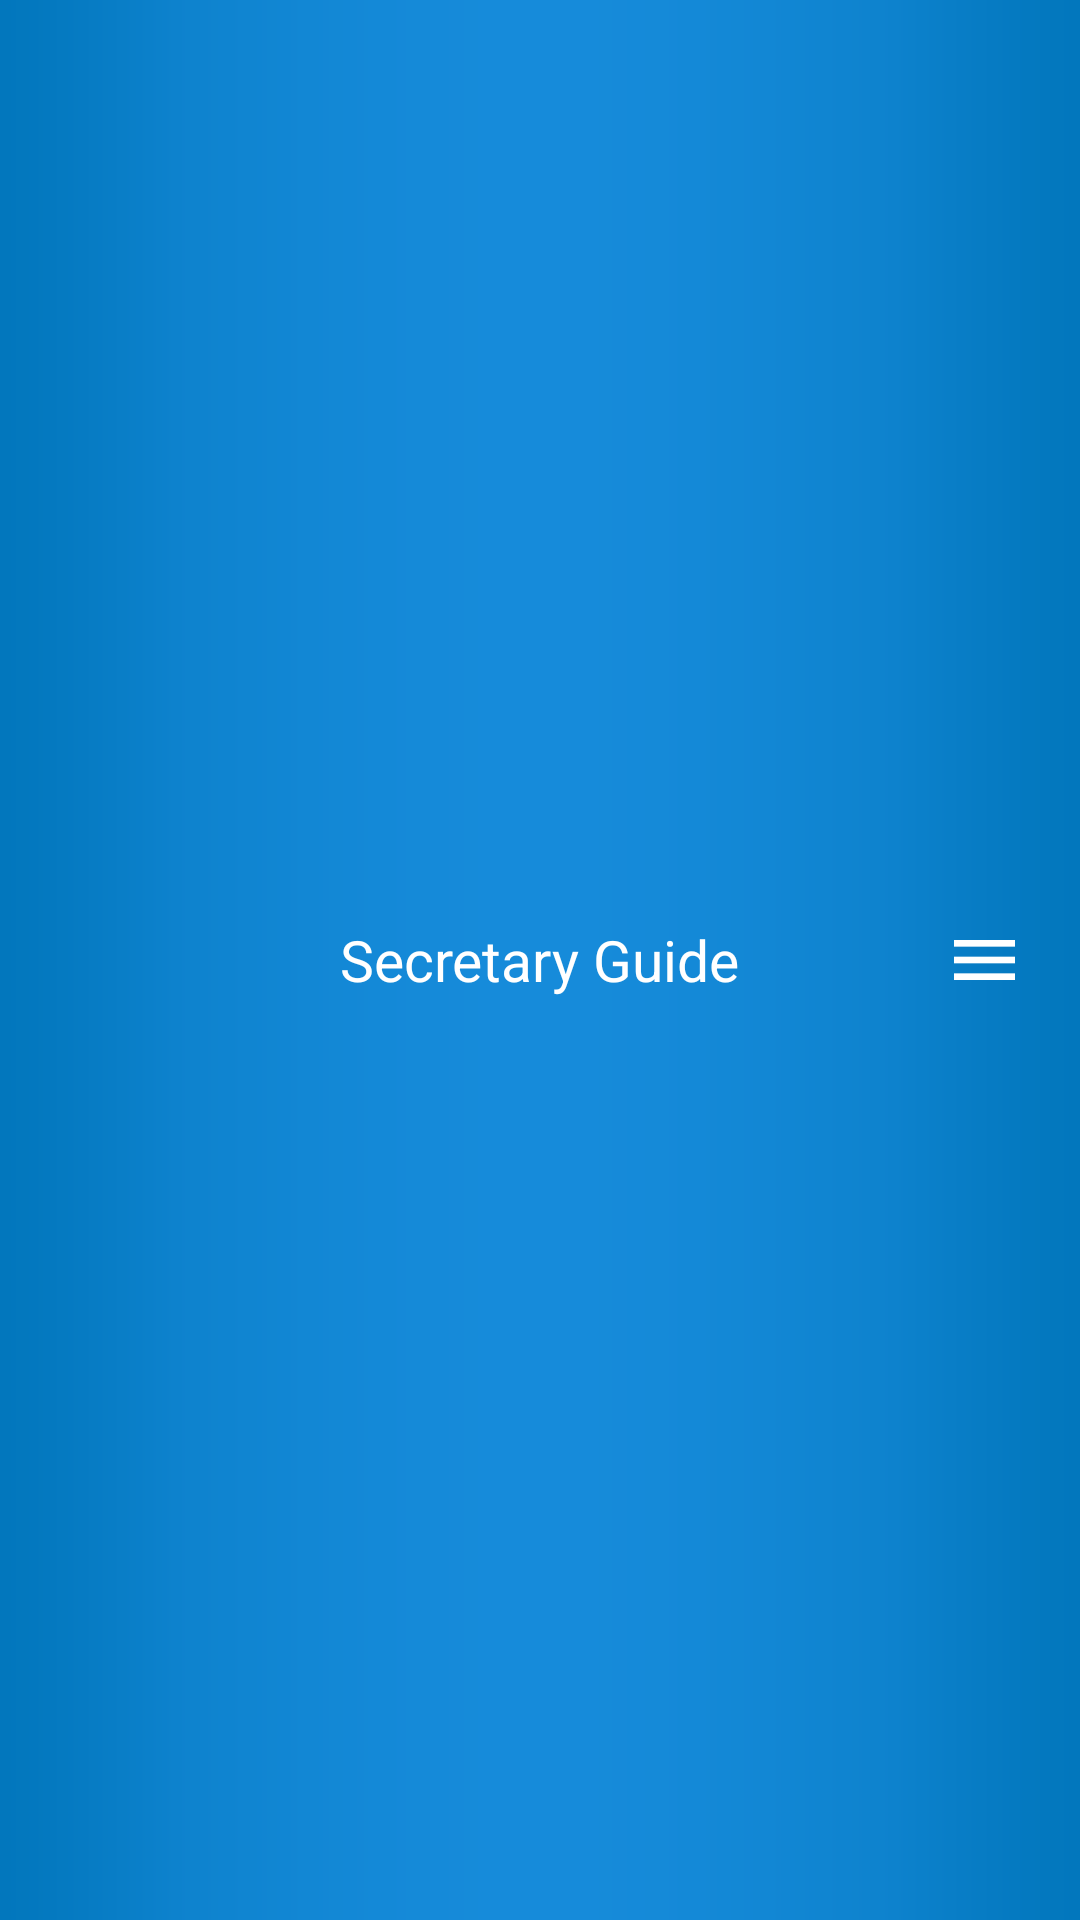

Screen size 1080w x 1920h. Icon name, then its center in pixels as (x=x, y=y):
menu: (x=984, y=960)
